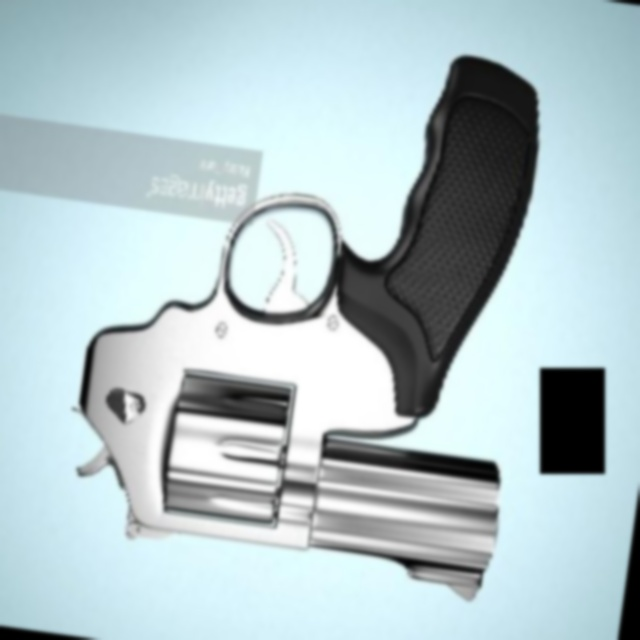gun: (50, 9, 582, 621)
